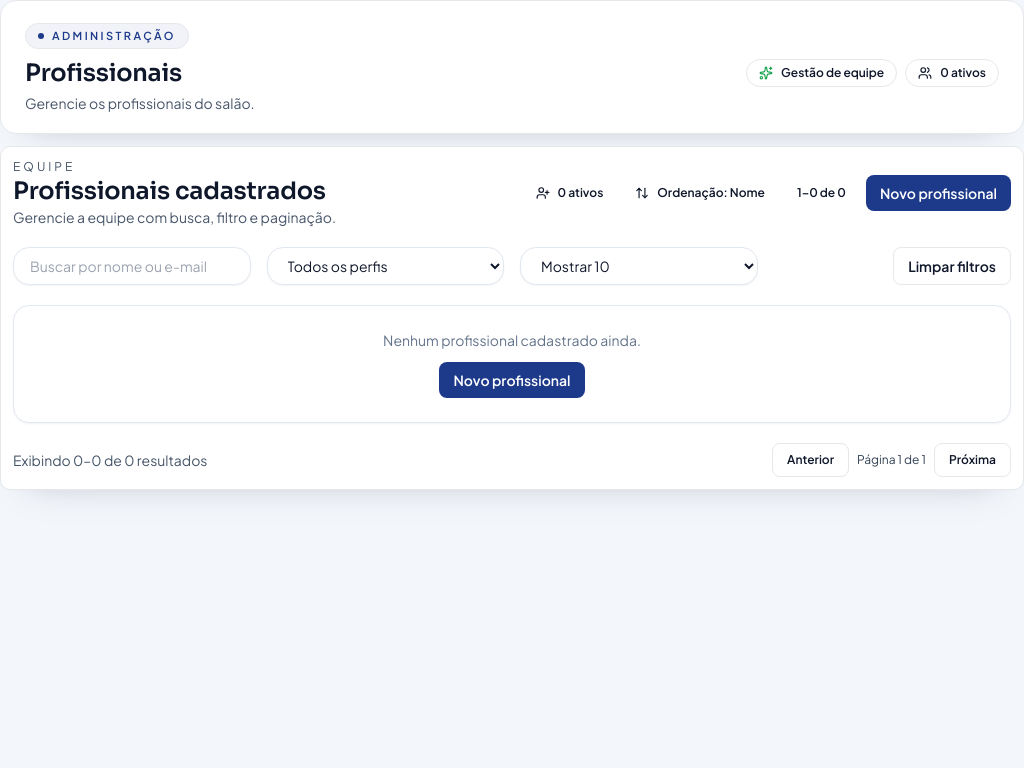
Test: Profissionais › cadastra novo profissional e limpa campos
Expected: the heading "Profissionais cadastrados" is shown, [13,175,336,207]
Click the button "Novo profissional" below "Nenhum profissional cadastrado ainda." at [512, 380], box [440,362,585,398]
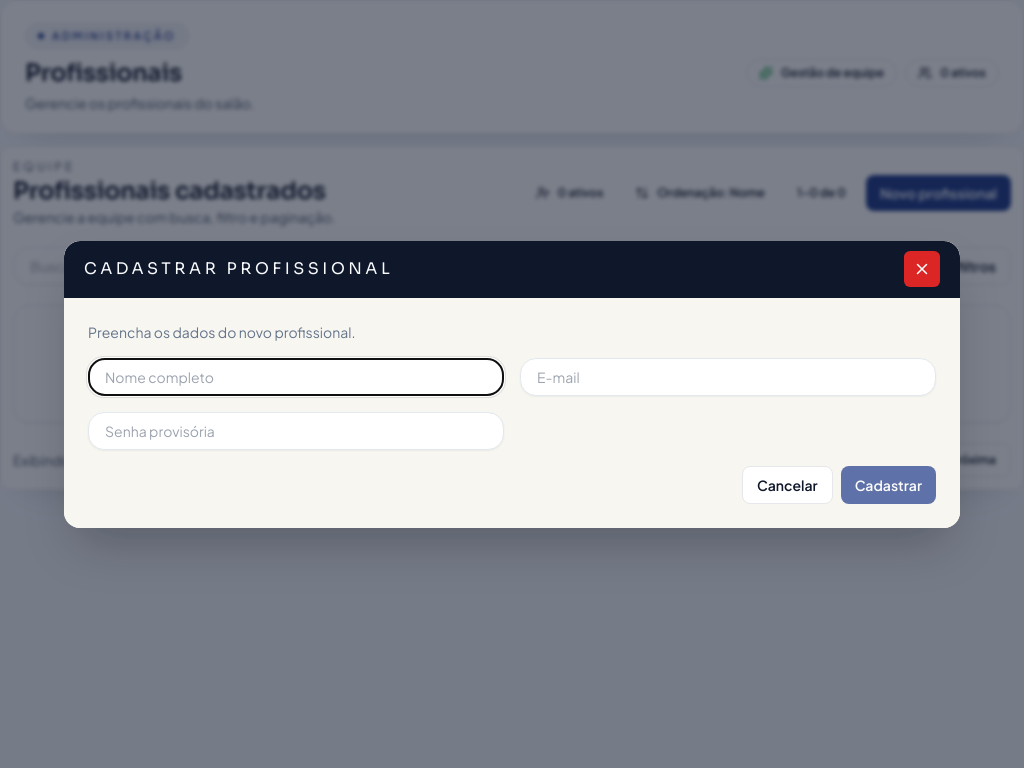
Result: the heading "Cadastrar profissional" is shown at [84,258,393,278]
Type "Novo Prof" into the field with placeholder "Nome completo" at [296, 376], box [88,358,504,396]
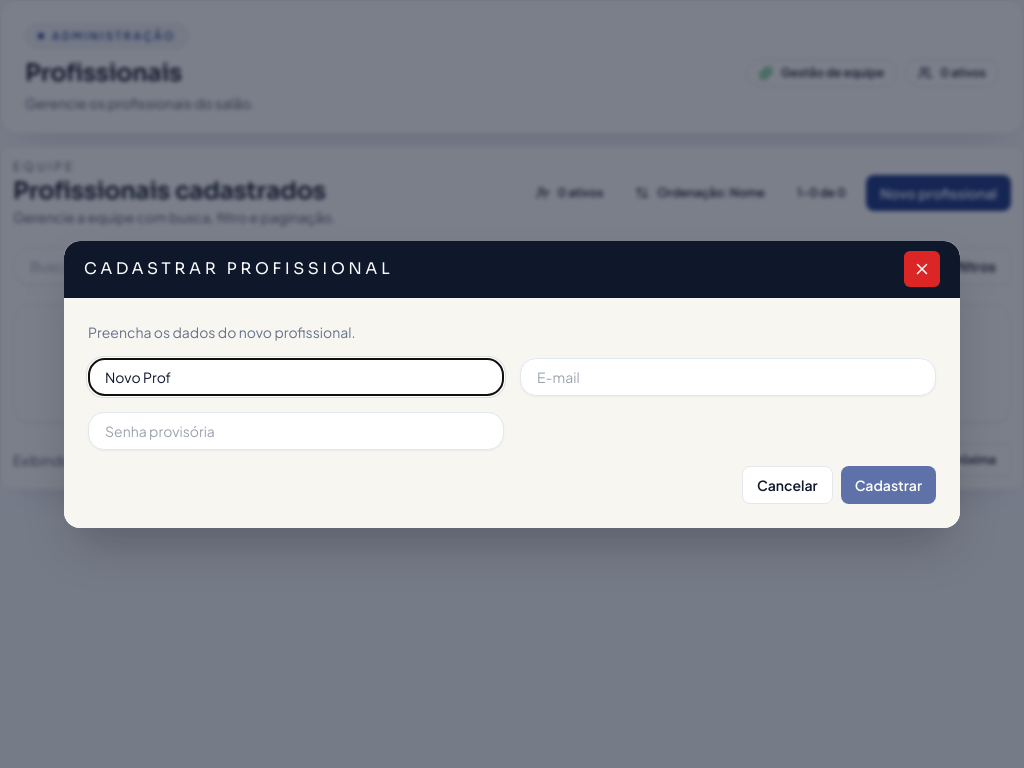
Type "novo@example.com" into the field with placeholder "E-mail" at [728, 376], box [520,358,936,396]
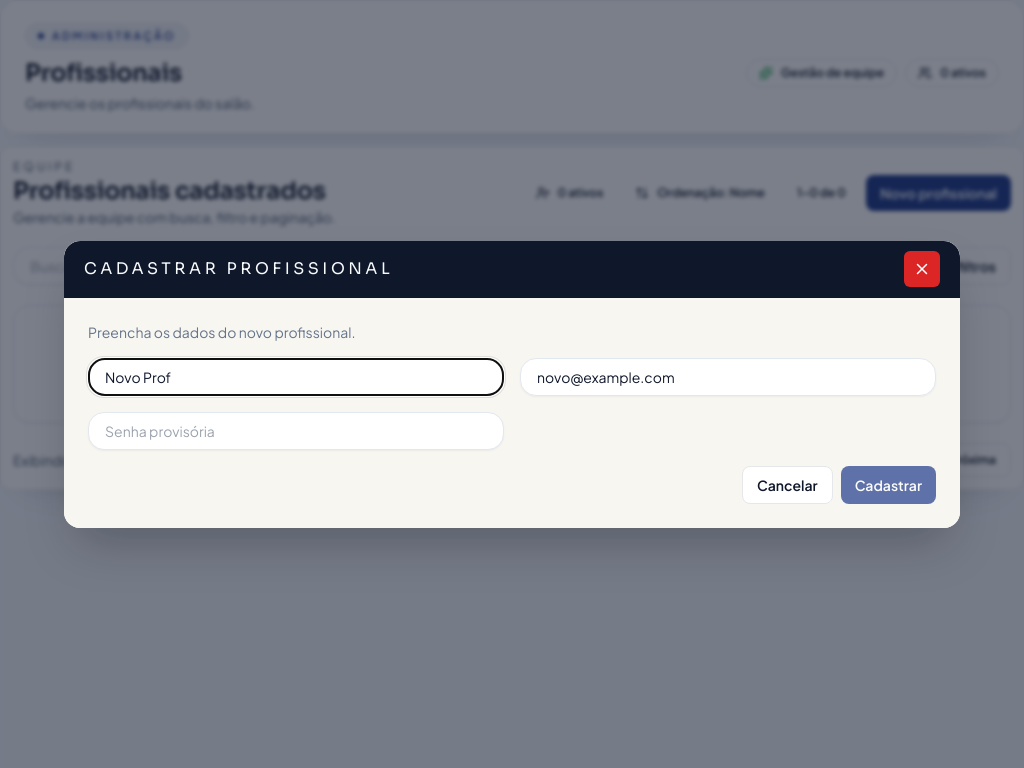
Type "senha1234" into the password field with placeholder "Senha provisória" at [296, 430], box [88,412,504,450]
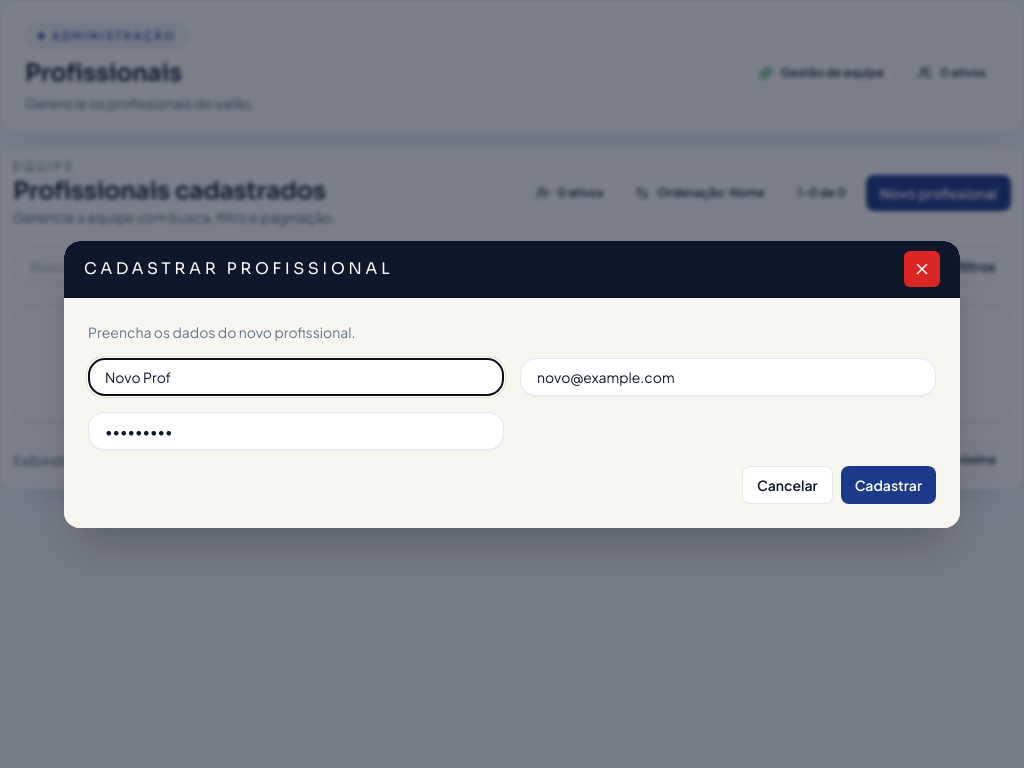
Click the button "Cadastrar" at [888, 484], box [841,466,936,504]
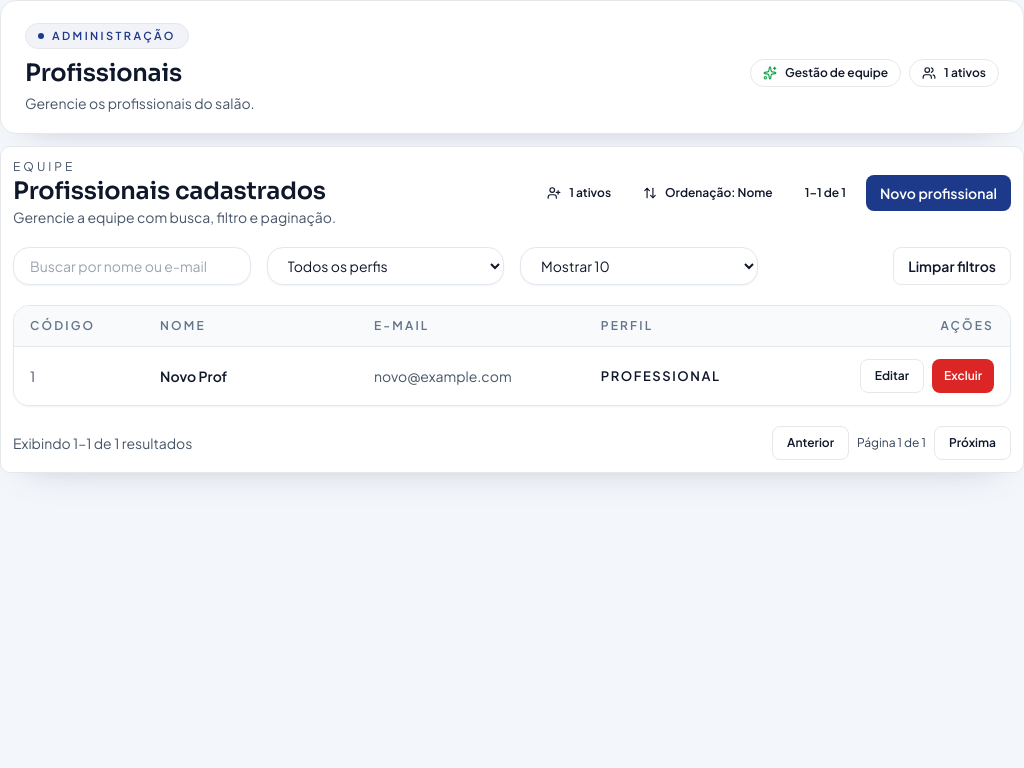
Expected: the text "Novo Prof" is shown, [144,347,358,405]
Click the button "Novo profissional" at [938, 193], box [866,175,1011,211]
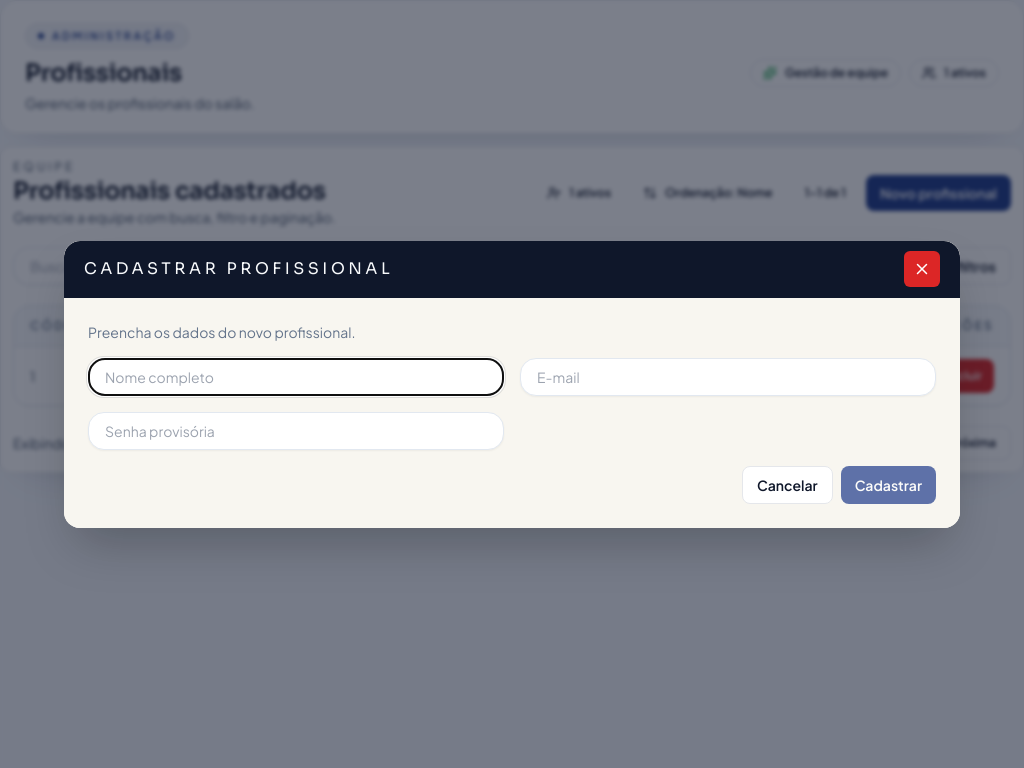
Result: the heading "Cadastrar profissional" is shown at [84,258,393,278]
Result: the field with placeholder "Nome completo" is empty at [88,358,504,396]
Result: the field with placeholder "E-mail" is empty at [520,358,936,396]
